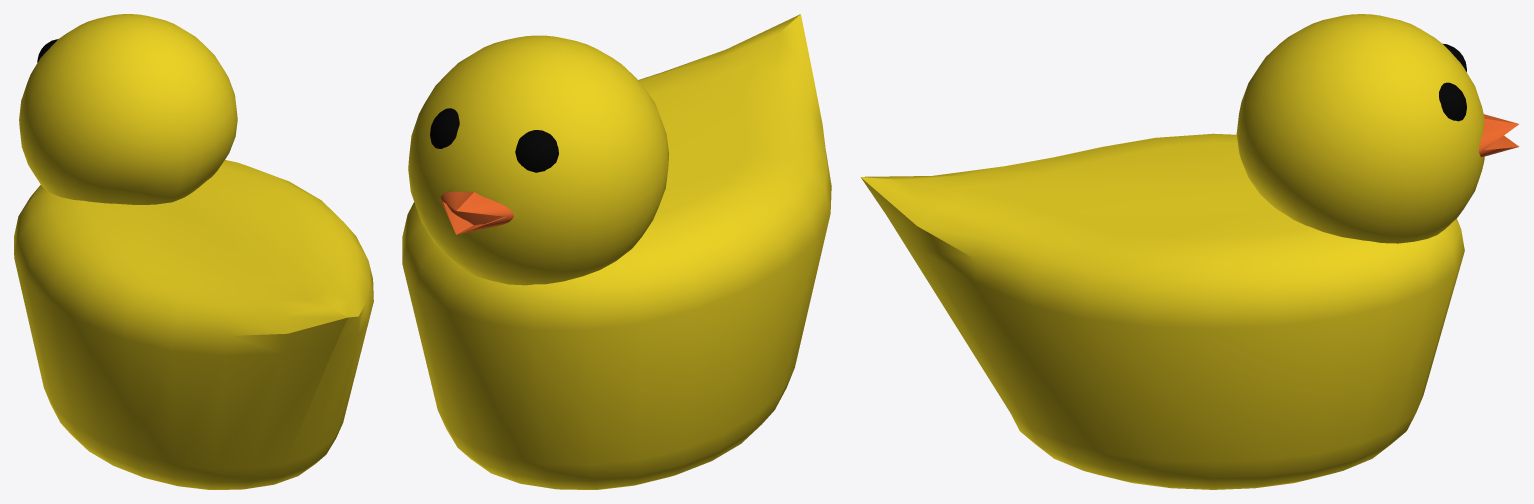
File: DUCK.fbx
The picture shows the model from 3 angles, left to right: view 1: azimuth 30°, elevation 25°; view 2: azimuth 150°, elevation 25°; view 3: azimuth 270°, elevation 25°; orthographic projection. The views are drawn at different scales.
Parts seen in each view (by area): view 1: Duck; view 2: Duck; view 3: Duck.
Part boxes in pixels (box(x1,y1,x2,y2)): Duck: box(14, 14, 373, 489); Duck: box(402, 14, 831, 489); Duck: box(860, 14, 1519, 489).
Bounding box in the file's own units: 143 × 172 × 250.
